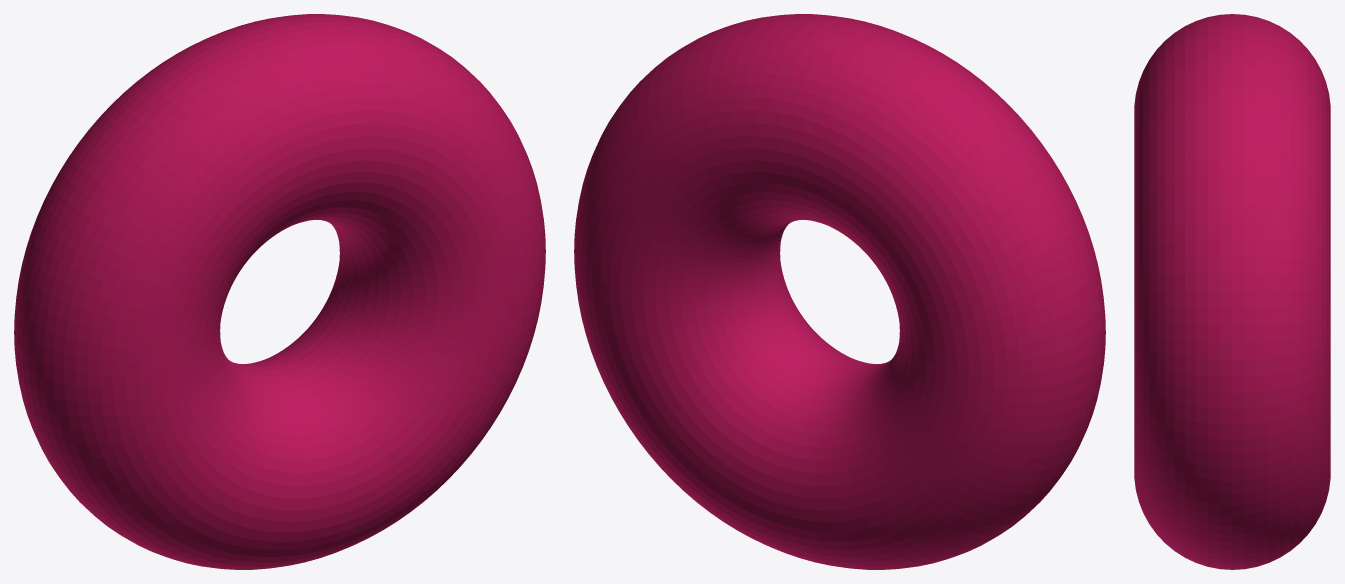
The picture shows the model from 3 angles, left to right: view 1: azimuth 30°, elevation 25°; view 2: azimuth 150°, elevation 25°; view 3: azimuth 270°, elevation 25°; orthographic projection. The views are drawn at different scales.
Visible parts, largest first — view 1: world; view 2: world; view 3: world.
Boxes of the visible parts, x1=… form: world: x1=14, y1=14, x2=545, y2=569; world: x1=574, y1=14, x2=1105, y2=569; world: x1=1134, y1=14, x2=1330, y2=569.
Size of the model in its own units: 23.73 by 23.73 by 8.38.
